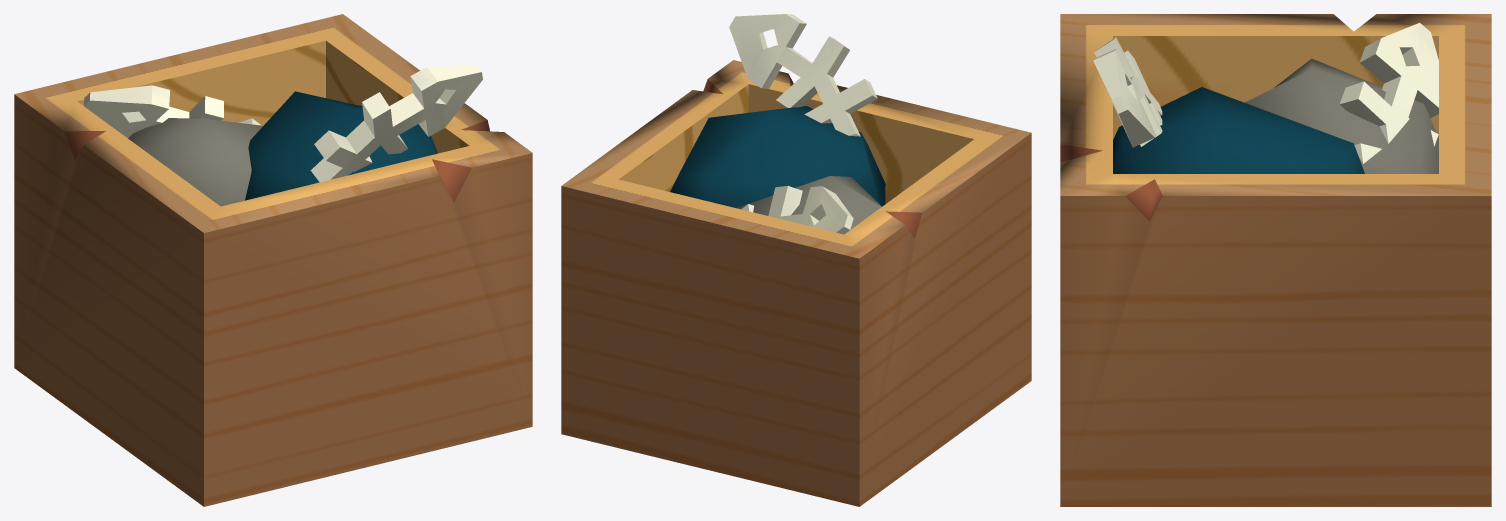
File: TrashCan.fbx
The picture shows the model from 3 angles, left to right: view 1: azimuth 30°, elevation 25°; view 2: azimuth 150°, elevation 25°; view 3: azimuth 270°, elevation 25°; orthographic projection. The views are drawn at different scales.
Parts seen in each view (by area): view 1: TrashCan; view 2: TrashCan; view 3: TrashCan.
Boxes of the visible parts, left/top/right/bottom form: TrashCan: left=14, top=14, right=532, bottom=506; TrashCan: left=561, top=14, right=1031, bottom=506; TrashCan: left=1060, top=14, right=1491, bottom=506.
Bounding box in the file's own units: 82.82 × 87.16 × 82.82.
1 material, 1 textured.
